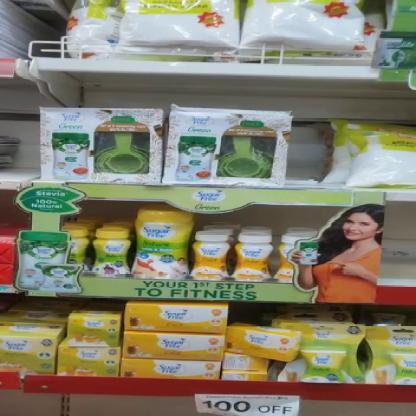SUGAR FREE GOLD POWDER 100GM: (192, 228, 235, 283), (238, 232, 278, 280)
SUGAR FREE NATURA 500 PELLET: (276, 318, 363, 381), (362, 328, 414, 390)
SUGAR FREE NATURA DIET SUGAR 80GM: (136, 208, 194, 276)
SUGAR FREE NATURA SACHET 50: (1, 328, 57, 375), (53, 344, 118, 376), (67, 309, 124, 344)
SUGAR FREE NATURA_ POWDER_CONC_100G: (90, 224, 132, 278)
